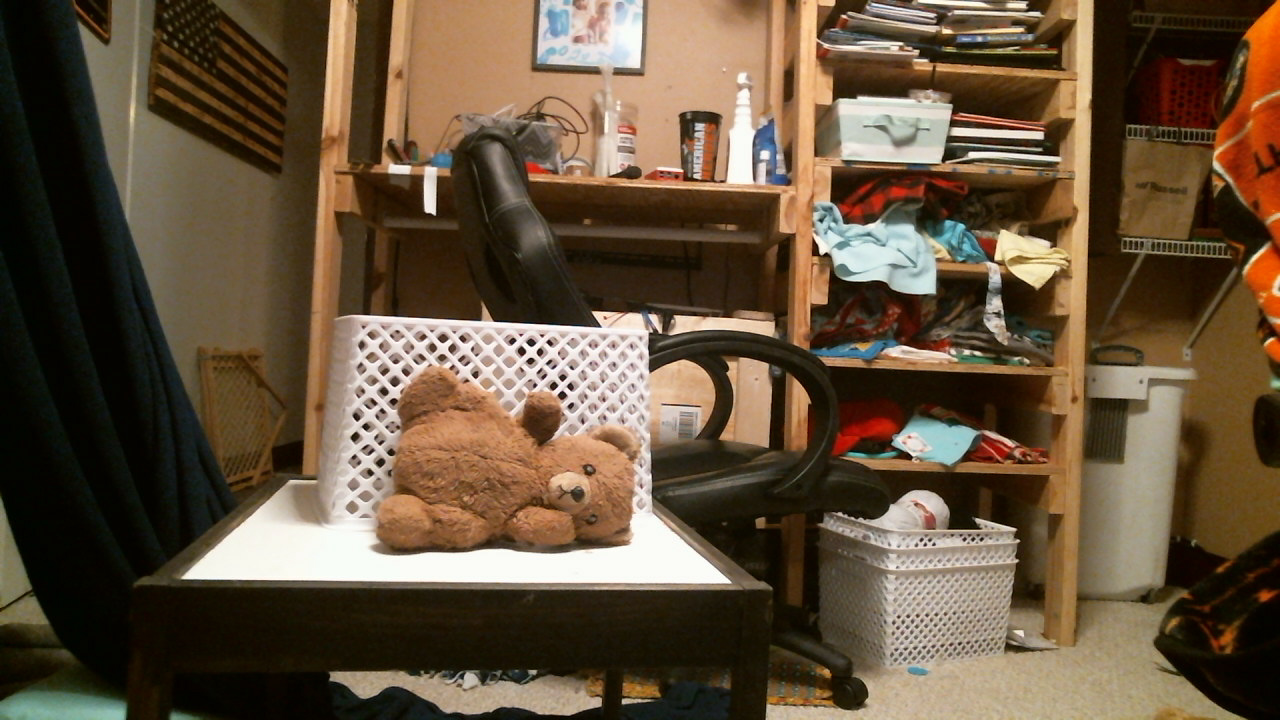Little_Mister_Bear: (547, 462, 609, 533)
